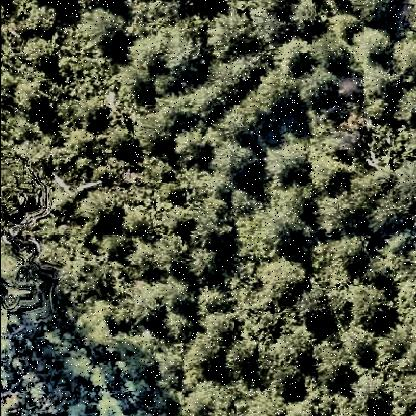tree-top: (255, 254, 311, 307), (160, 20, 208, 80), (206, 9, 258, 61), (345, 280, 397, 329), (306, 145, 352, 200), (316, 190, 366, 240), (265, 132, 313, 184), (76, 8, 130, 54), (79, 184, 127, 232), (210, 54, 256, 104), (168, 237, 222, 279), (365, 27, 411, 75), (263, 205, 310, 251), (256, 67, 302, 113), (130, 32, 174, 78), (351, 24, 398, 67), (180, 334, 229, 374), (369, 190, 413, 234), (295, 66, 341, 108), (169, 122, 215, 164), (13, 70, 53, 116), (308, 28, 351, 70), (130, 282, 172, 325), (214, 140, 258, 181), (222, 100, 262, 142), (150, 233, 192, 272), (311, 337, 349, 378), (355, 372, 391, 415), (19, 35, 62, 69), (226, 338, 264, 376), (291, 1, 330, 37), (24, 3, 64, 38), (343, 328, 381, 364), (76, 100, 115, 134), (186, 248, 222, 284), (272, 364, 308, 399), (104, 121, 138, 155), (393, 34, 416, 79), (121, 205, 153, 237), (167, 204, 199, 232), (352, 1, 396, 20), (397, 87, 416, 129)
